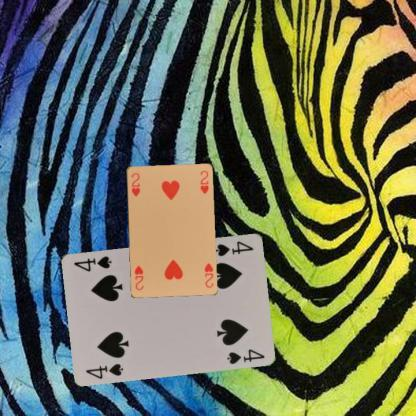2h: (202, 260, 214, 289), (129, 170, 141, 197)
4s: (213, 238, 255, 257), (83, 361, 125, 380)
